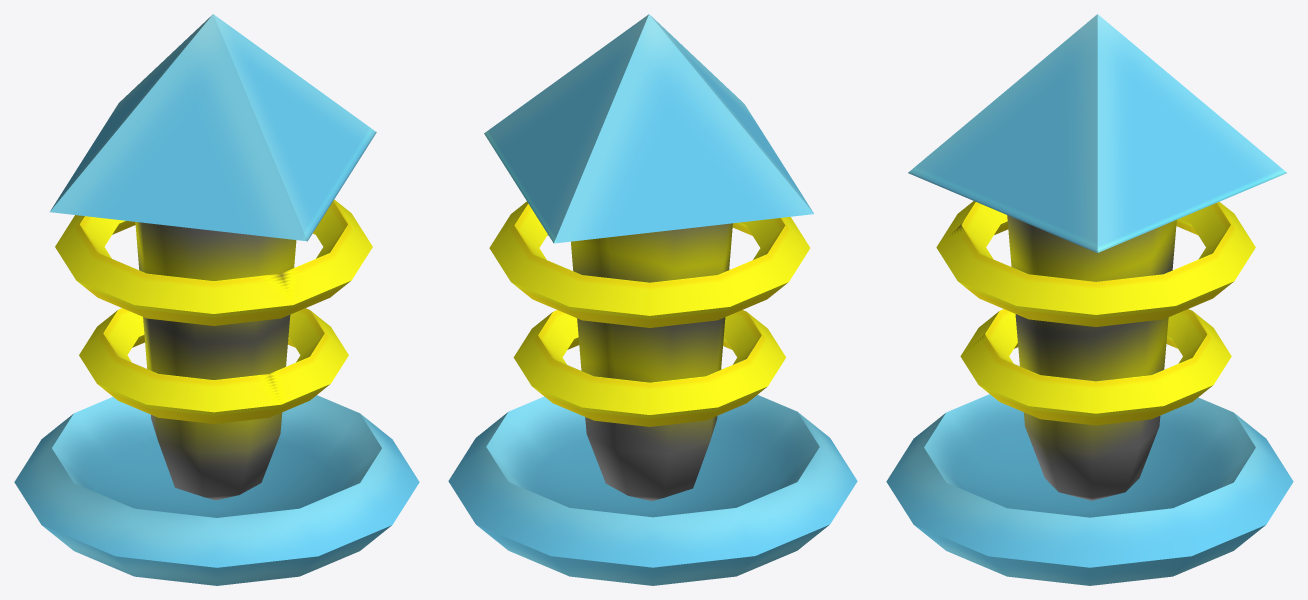
The model's file is WeaponTeslaRay.FBX.
The picture shows the model from 3 angles, left to right: view 1: azimuth 30°, elevation 25°; view 2: azimuth 150°, elevation 25°; view 3: azimuth 270°, elevation 25°; orthographic projection.
Visible parts, largest first — view 1: Cylinder002; view 2: Cylinder002; view 3: Cylinder002.
Part boxes in pixels (x1,y1,x2,y2): Cylinder002: (14, 14, 419, 585); Cylinder002: (448, 14, 857, 585); Cylinder002: (886, 14, 1293, 585).
Bounding box in the file's own units: 30.52 × 41.49 × 30.52.
Materials: 1 (1 with a texture image).
